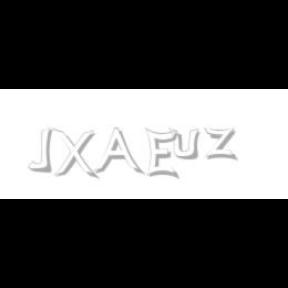A: (93, 128, 141, 176)
E: (146, 128, 178, 180)
J: (28, 128, 53, 172)
X: (52, 128, 96, 180)
u: (169, 128, 204, 160)
z: (204, 128, 240, 160)
